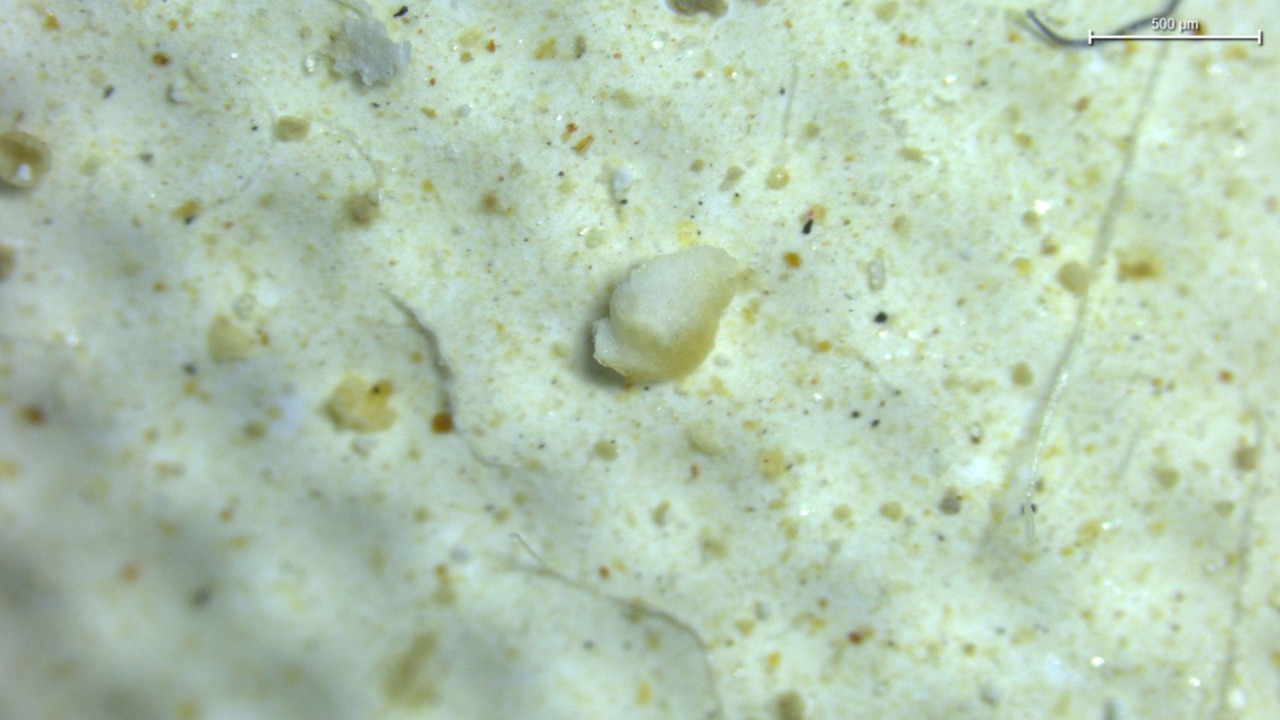microplastic_fragment: (592, 246, 743, 383), (333, 18, 410, 85)
